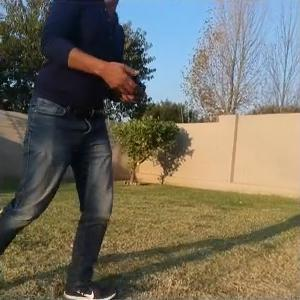follow: (0, 0, 145, 298)
